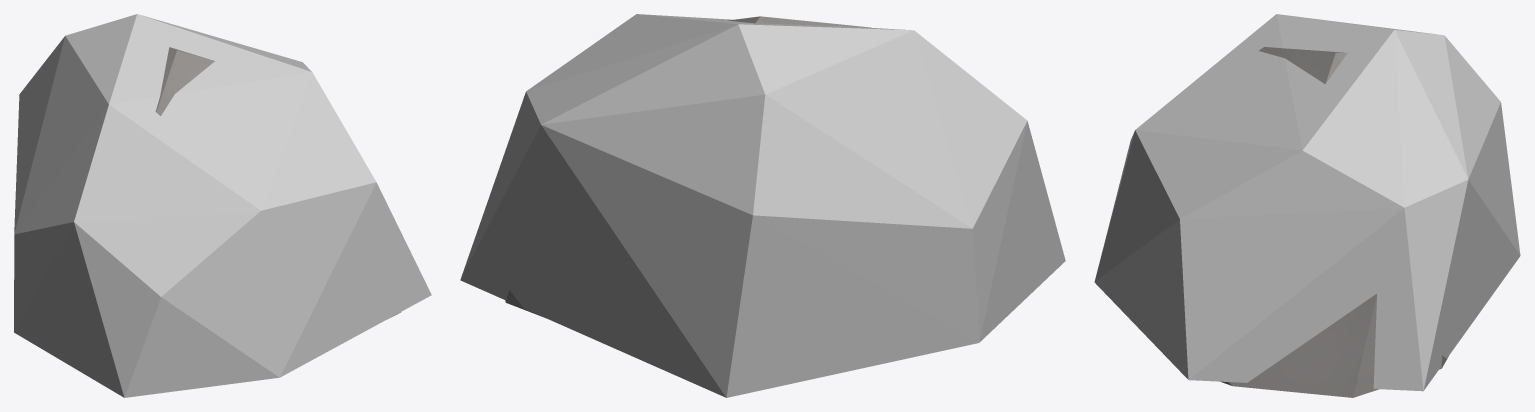
File: SM_Rock_07.fbx
The picture shows the model from 3 angles, left to right: view 1: azimuth 30°, elevation 25°; view 2: azimuth 150°, elevation 25°; view 3: azimuth 270°, elevation 25°; orthographic projection. The views are drawn at different scales.
Visible parts, largest first — view 1: SM_Rock_07_ConvexHulls, SM_Rock_07; view 2: SM_Rock_07_ConvexHulls, SM_Rock_07; view 3: SM_Rock_07_ConvexHulls, SM_Rock_07.
Part boxes in pixels (x1,y1,x2,y2): SM_Rock_07_ConvexHulls: (14,14,431,397); SM_Rock_07: (155,47,400,319); SM_Rock_07_ConvexHulls: (460,14,1065,397); SM_Rock_07: (505,16,870,317); SM_Rock_07_ConvexHulls: (1094,14,1520,391); SM_Rock_07: (1220,47,1448,397).
Bounding box in the file's own units: 35.03 × 33.33 × 22.42.
2 materials, 1 textured.
